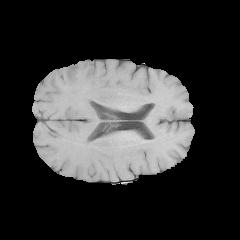glioma: (55, 63, 83, 87)
